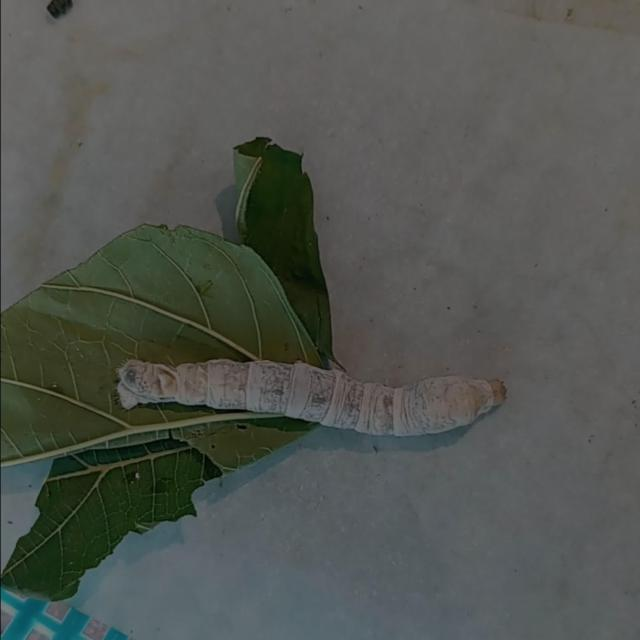Grasserie: (106, 330, 518, 466)
